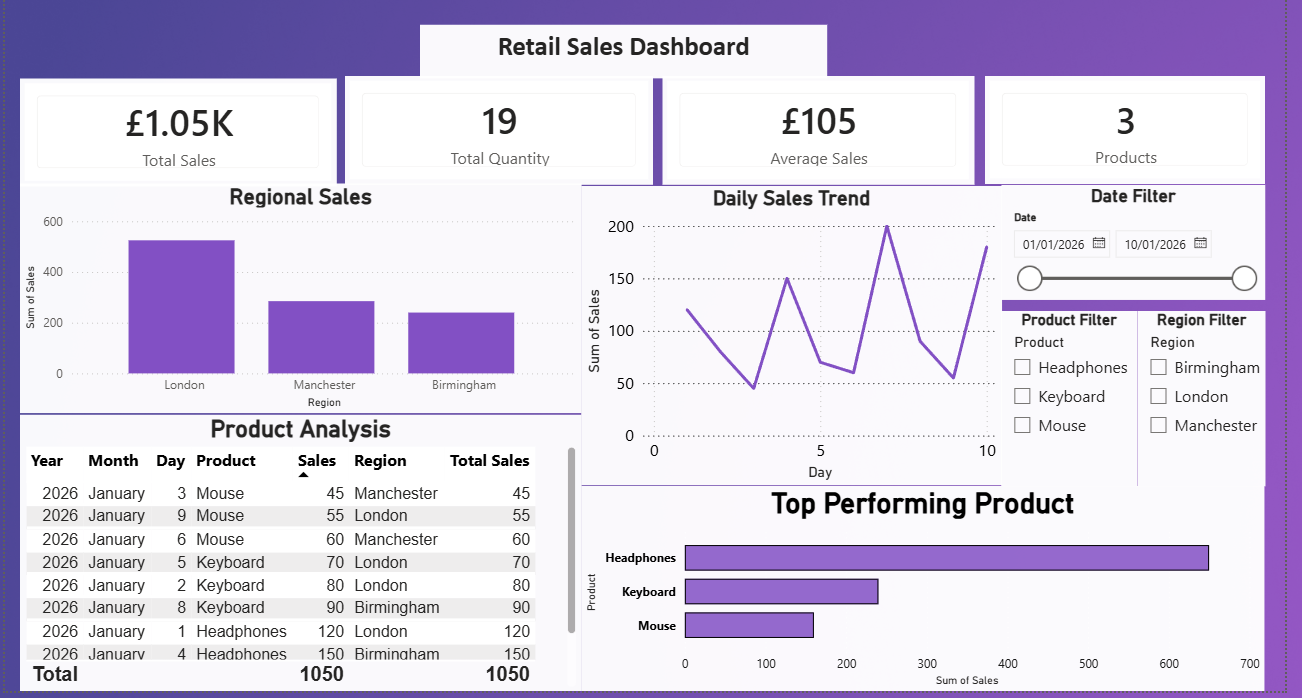

This screenshot's page, from the dashboard's own definition file:
{"tool":"powerbi","page":{"name":"Page 1","canvas":[1280,720],"ordinal":0},"visuals":[{"type":"clusteredBarChart","title":"Top Performing Product","fields":{"Category":["sales_data cvs.Product"],"Y":["Sum(sales_data cvs.Sales)"]},"box":[576.3,514.6,683.4,205.8],"z":0},{"type":"lineChart","title":"Daily Sales Trend","fields":{"Category":["sales_data cvs.Date.Variation.Date Hierarchy.Day"],"Y":["Sum(sales_data cvs.Sales)"]},"box":[576,215.2,420.7,299.6],"z":1000},{"type":"tableEx","title":"Product Analysis","fields":{"Values":["sales_data cvs.Date.Variation.Date Hierarchy.Year","sales_data cvs.Date.Variation.Date Hierarchy.Month","sales_data cvs.Date.Variation.Date Hierarchy.Day","sales_data cvs.Product","Sum(sales_data cvs.Sales)","sales_data cvs.Region","sales_data cvs.Total Sales"]},"box":[15.1,443.2,561.2,277.2],"z":2000},{"type":"cardVisual","fields":{"Data":["sales_data cvs.Average Sales"]},"box":[657.9,105.2,311.8,108.8],"z":3000},{"type":"cardVisual","fields":{"Data":["sales_data cvs.Total Quantity"]},"box":[339.9,105.2,308.2,108.8],"z":4000},{"type":"cardVisual","fields":{"Data":["sales_data cvs.Total Sales"]},"box":[14.7,107.6,316.7,107.6],"z":5000},{"type":"slicer","title":"Region Filter","fields":{"Values":["sales_data cvs.Region"]},"box":[1132.3,339.9,128.4,174.9],"z":6000},{"type":"slicer","title":"Product Filter","fields":{"Values":["sales_data cvs.Product"]},"box":[996.6,339.9,135.7,174.9],"z":7000},{"type":"textbox","box":[414.5,53.8,407.2,53.8],"z":8000},{"type":"slicer","title":"Date Filter","fields":{"Values":["sales_data cvs.Date"]},"box":[996.6,214,264.1,114.9],"z":9000},{"type":"clusteredColumnChart","title":"Regional Sales","fields":{"Category":["sales_data cvs.Region"],"Y":["Sum(sales_data cvs.Sales)"]},"box":[14.7,212.8,561.3,229.9],"z":9001},{"type":"cardVisual","fields":{"Data":["sales_data cvs.Number of Products"]},"box":[979.5,105.2,280,107.6],"z":9002}]}

Visuals, with their boxes on the page's 1280x720 design canvas (x1, y1, x2, y2). These are canvas units, not pixel positions in the 1302x698 screenshot, which may show the page scaled, cropped or inside an application window:
"Top Performing Product" clusteredBarChart: {"left": 576, "top": 515, "right": 1260, "bottom": 720}
"Daily Sales Trend" lineChart: {"left": 576, "top": 215, "right": 997, "bottom": 515}
"Product Analysis" tableEx: {"left": 15, "top": 443, "right": 576, "bottom": 720}
cardVisual - sales_data cvs.Average Sales: {"left": 658, "top": 105, "right": 970, "bottom": 214}
cardVisual - sales_data cvs.Total Quantity: {"left": 340, "top": 105, "right": 648, "bottom": 214}
cardVisual - sales_data cvs.Total Sales: {"left": 15, "top": 108, "right": 331, "bottom": 215}
"Region Filter" slicer: {"left": 1132, "top": 340, "right": 1261, "bottom": 515}
"Product Filter" slicer: {"left": 997, "top": 340, "right": 1132, "bottom": 515}
textbox: {"left": 414, "top": 54, "right": 822, "bottom": 108}
"Date Filter" slicer: {"left": 997, "top": 214, "right": 1261, "bottom": 329}
"Regional Sales" clusteredColumnChart: {"left": 15, "top": 213, "right": 576, "bottom": 443}
cardVisual - sales_data cvs.Number of Products: {"left": 980, "top": 105, "right": 1260, "bottom": 213}
